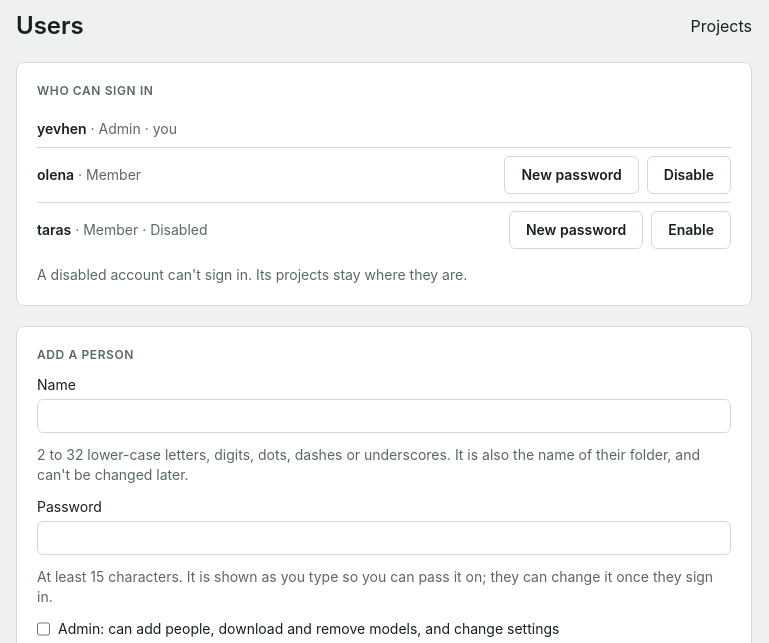
Scenario: Users › says why a new password wasn't taken, and leaves it to be changed
Click the button with aria-label "New password for olena" at (572, 175), box [504,156,639,194]
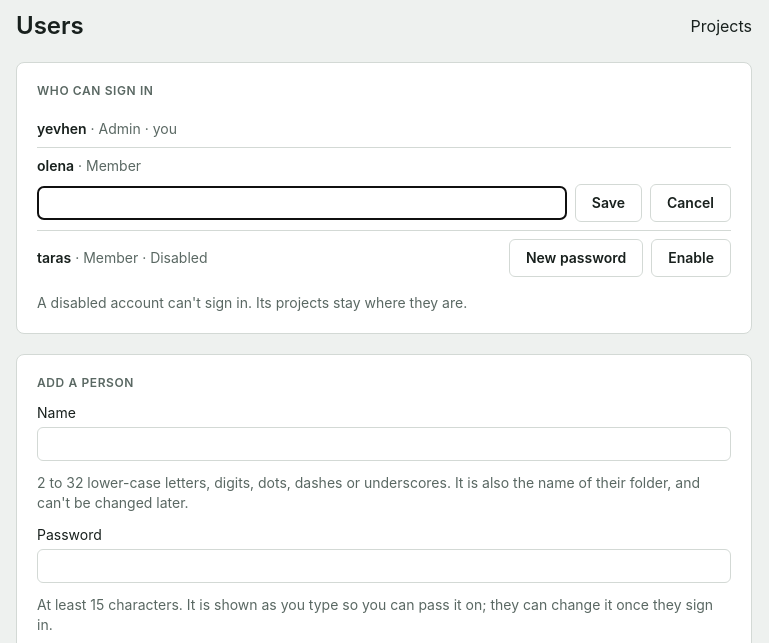
Type "short" into the field named "New password for olena" at (302, 203), box [37,186,567,220]
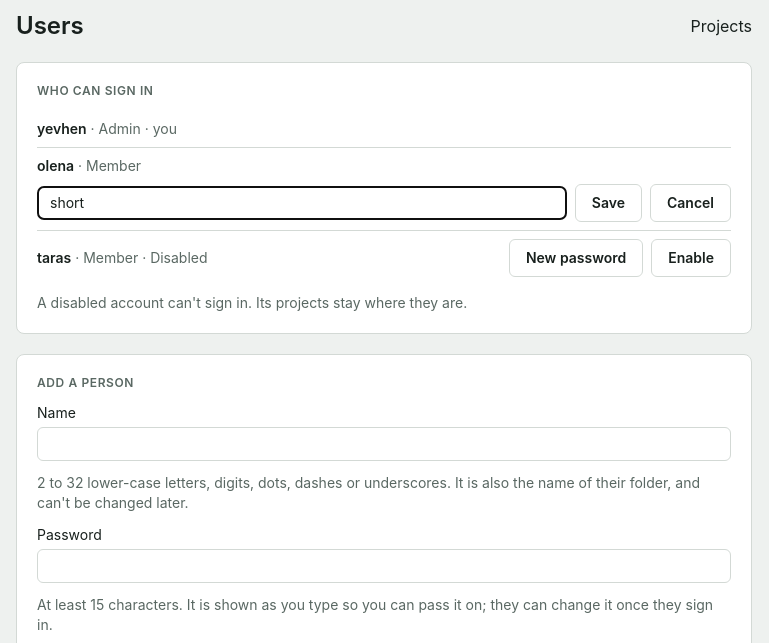
Click the button "Save" at (608, 203), box [575,184,642,222]
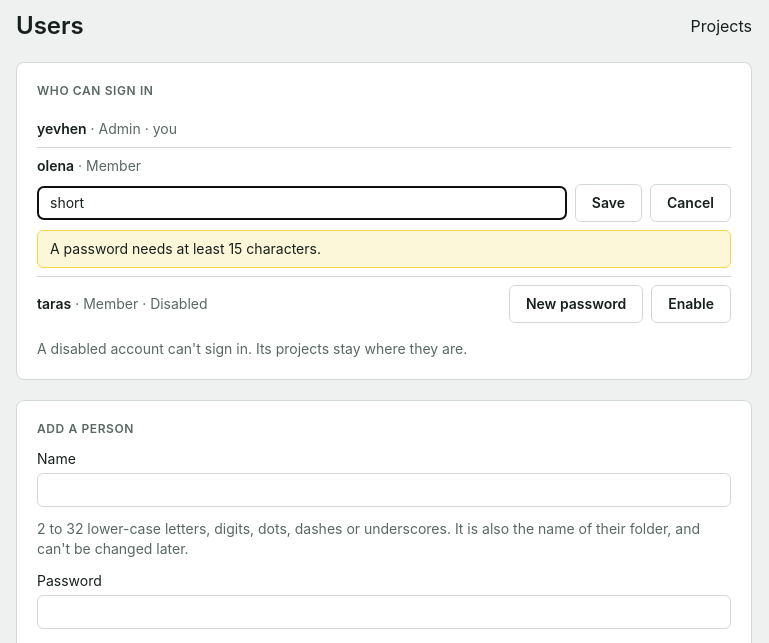
Result: the message shows "at least 15 characters" at [50,240,321,257]
